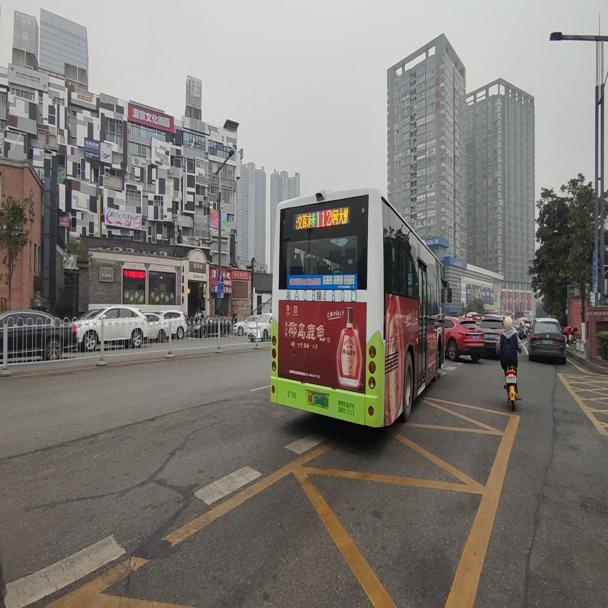bus: (268, 184, 453, 432)
screen: (314, 207, 332, 226)
